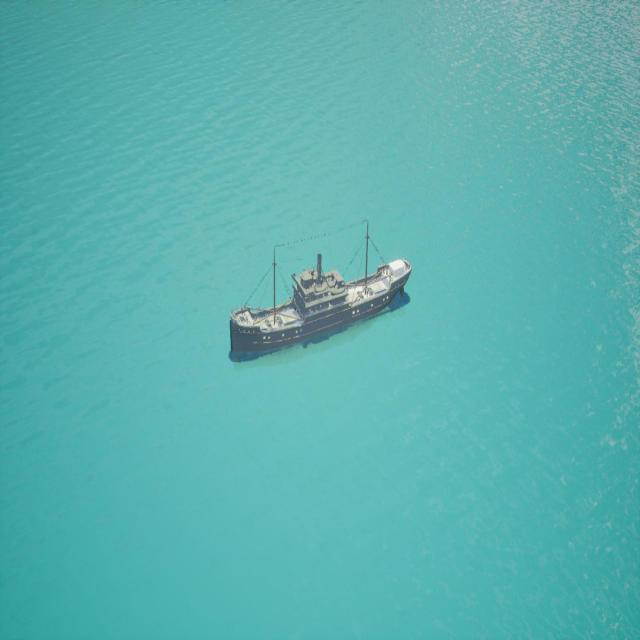fishing ship: (229, 223, 414, 364)
